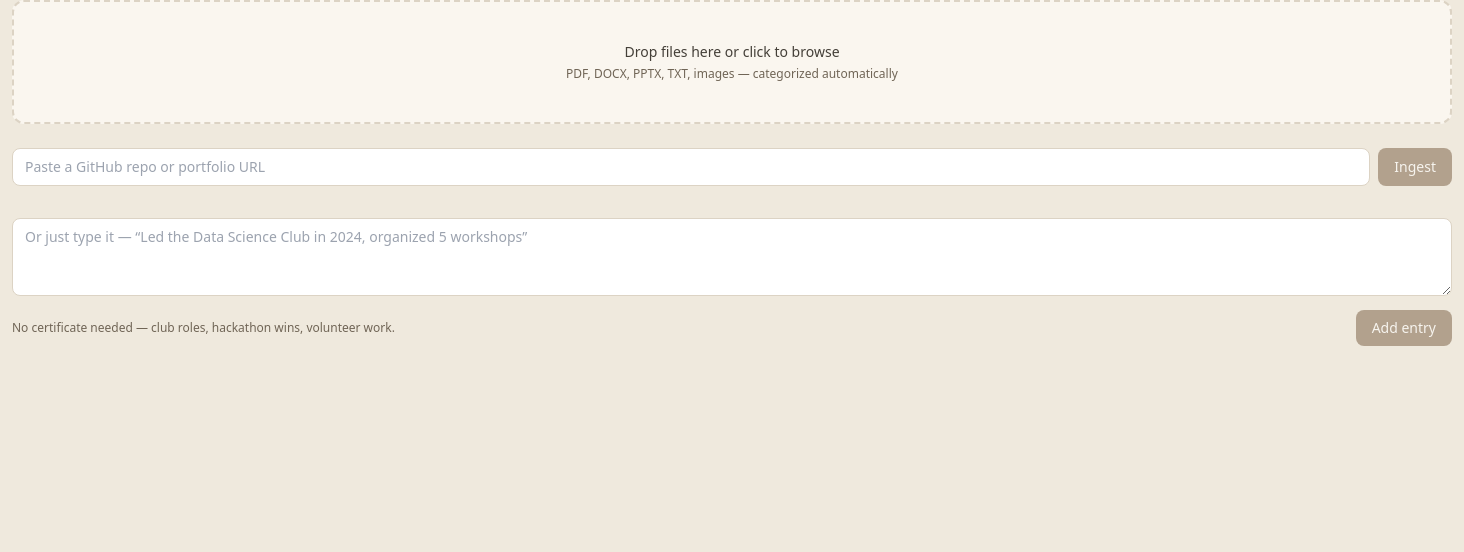
Test: Upload routing › sends the URL through ingestUrl and clears the field
Type "https://example.com" into the field with placeholder "Paste a GitHub repo or portfolio URL" at point(691, 167), box [12,148,1370,186]
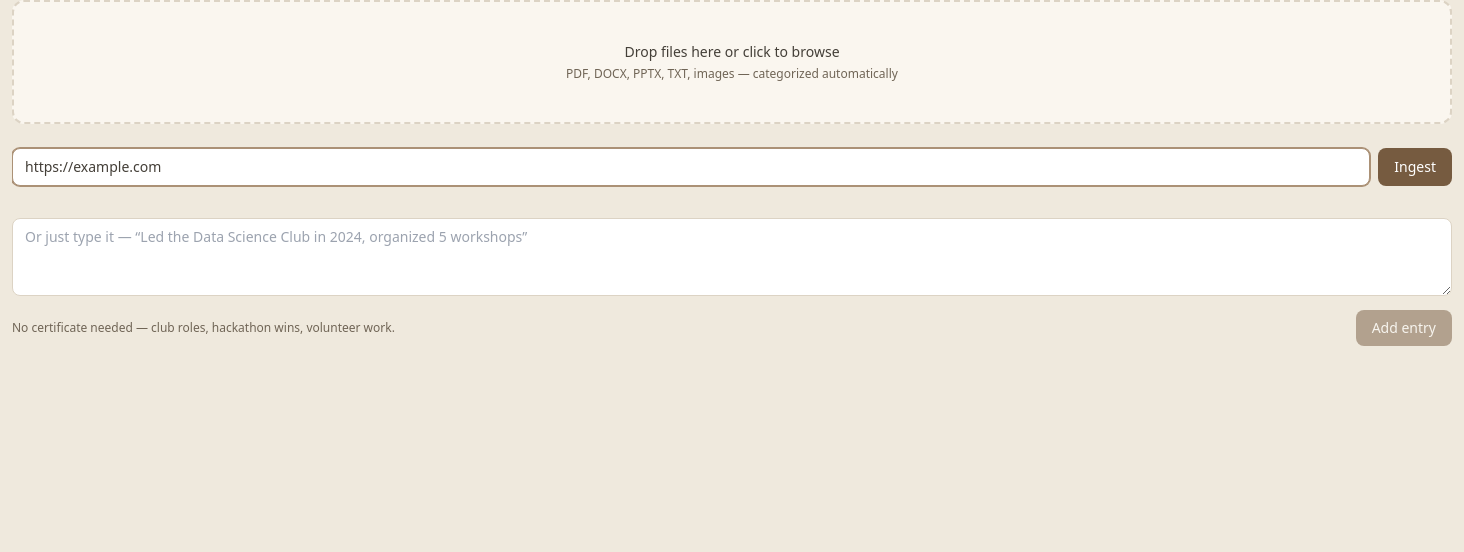
Click the button "Ingest" at point(1415, 167), box [1378,148,1452,186]
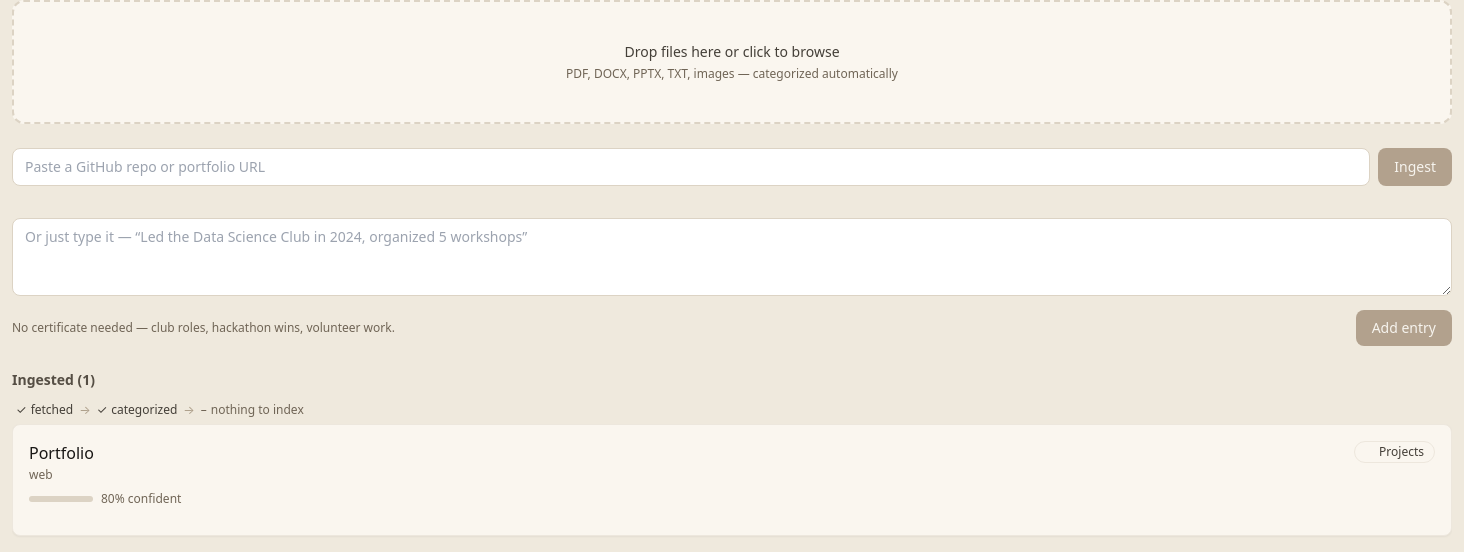
Expected: the text "Portfolio" is shown, [29,441,94,465]
Expected: the field with placeholder "Paste a GitHub repo or portfolio URL" is empty, [12,148,1370,186]
